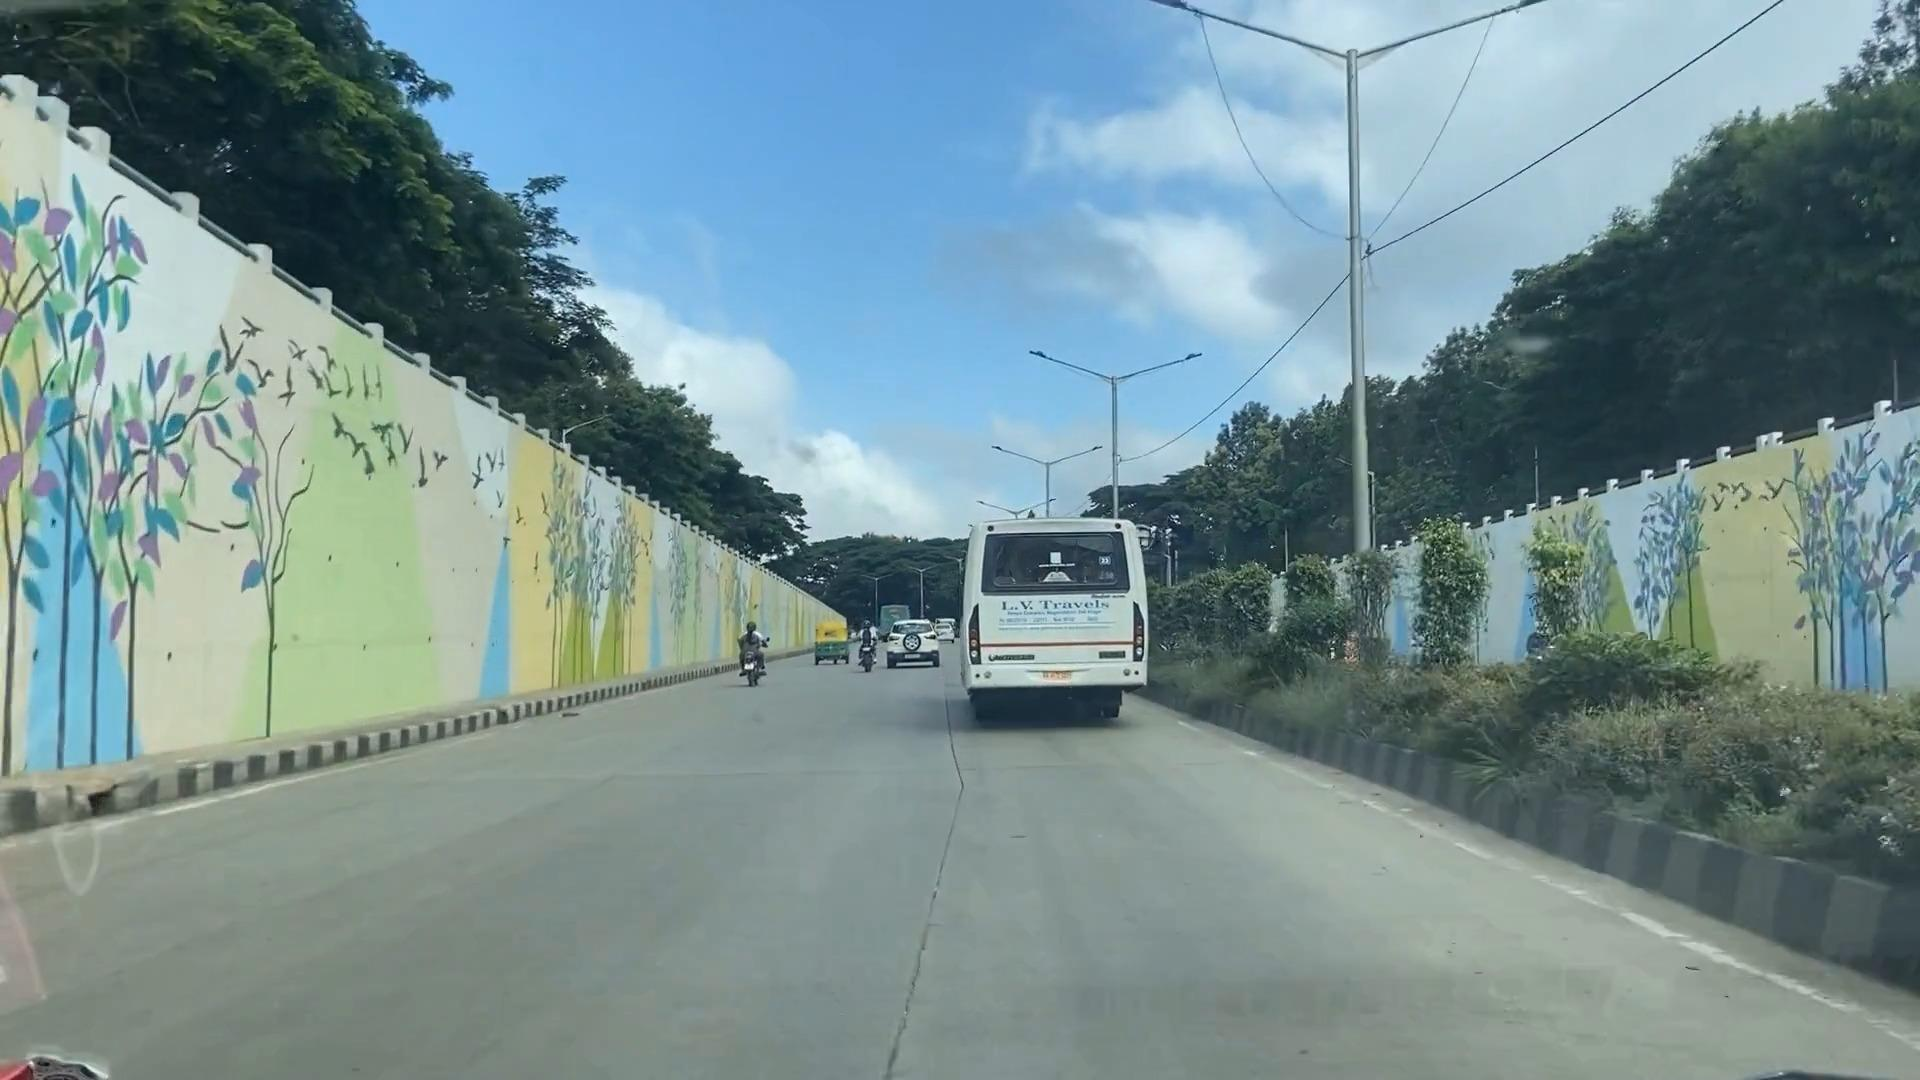HMV: (967, 533, 1137, 716)
